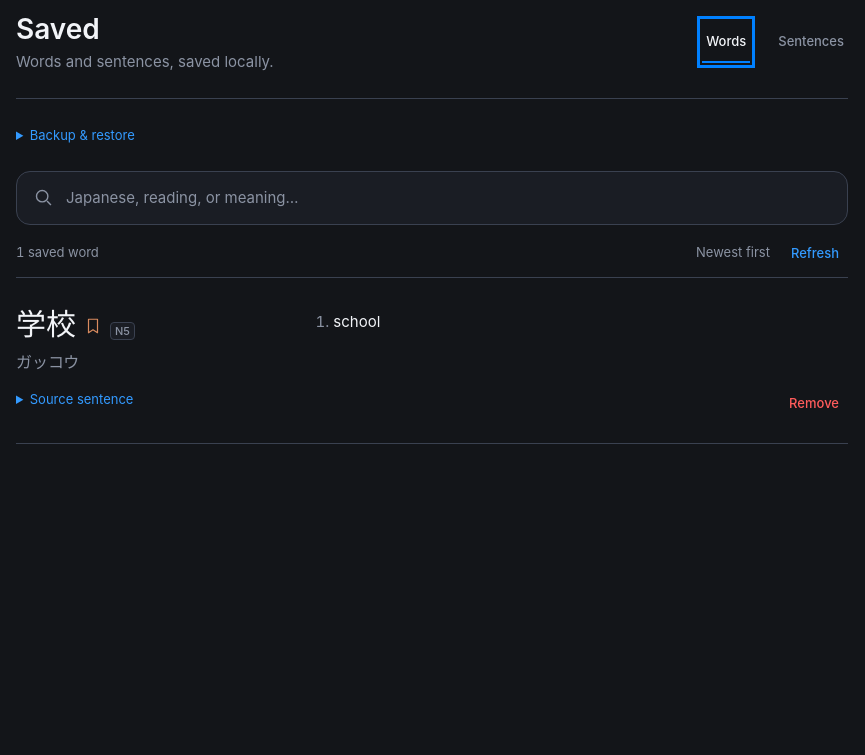
Test: refreshes restored entries after an already pending removal finishes
Click the heading "Backup & restore": (82, 135) [30, 127, 135, 143]
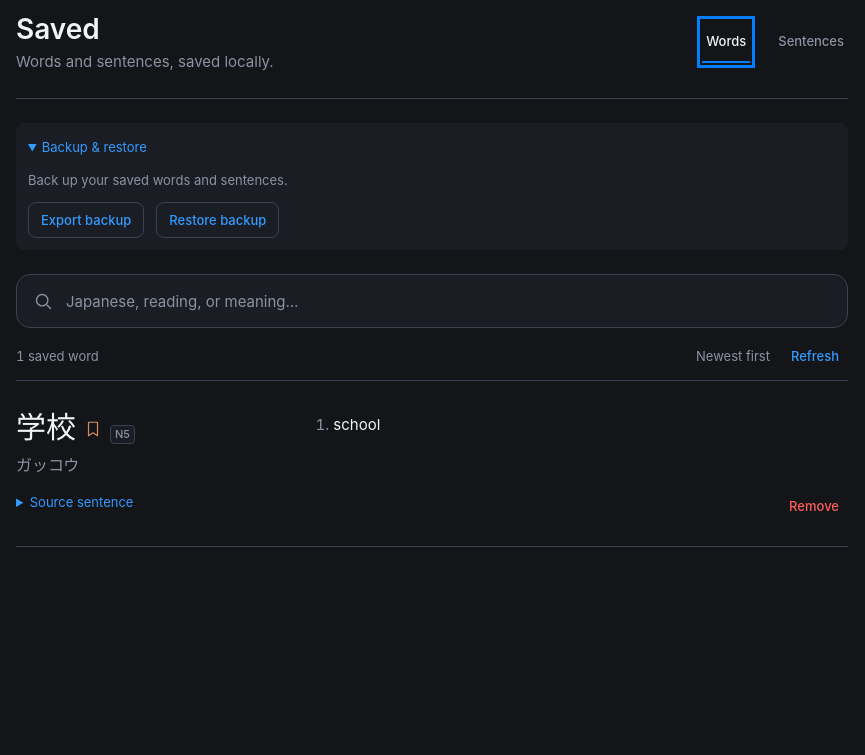
Click the button "Remove": (814, 506) [780, 490, 848, 522]
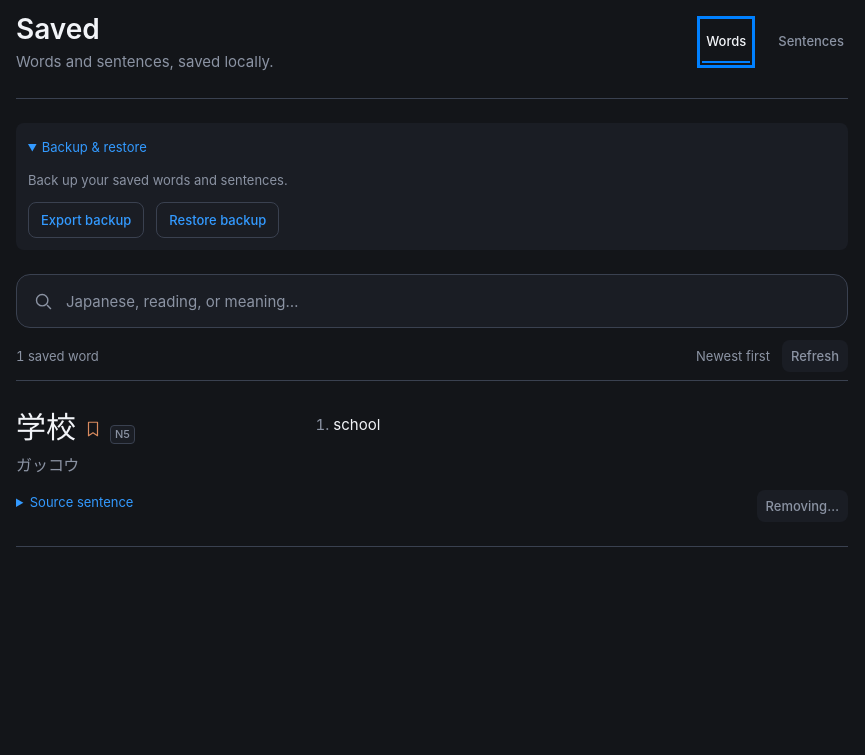
Click the button "Restore backup": (218, 220) [156, 202, 279, 238]
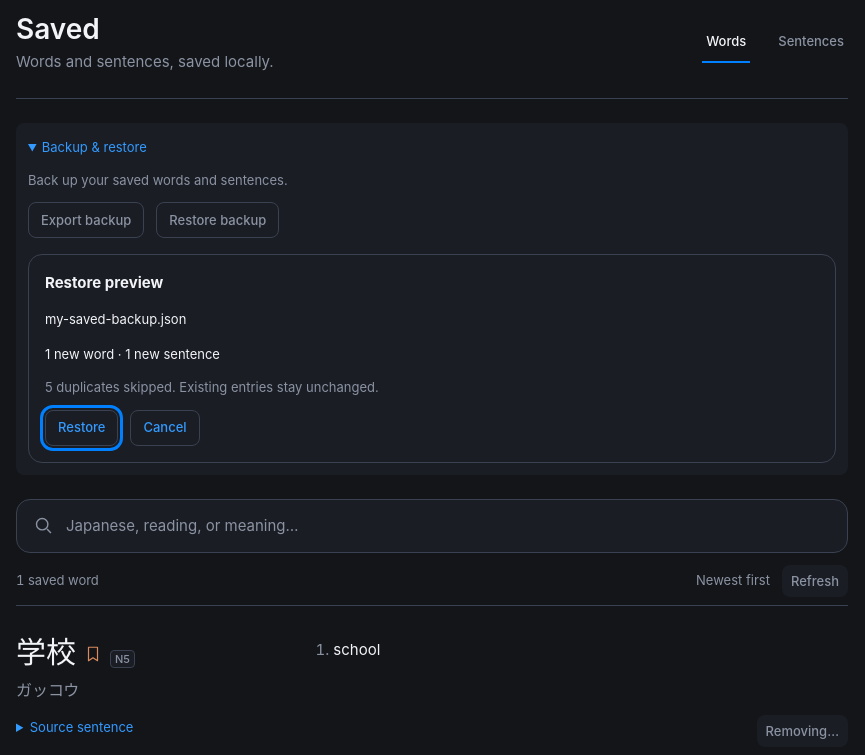
Click the button "Restore": (82, 428) [45, 410, 118, 446]
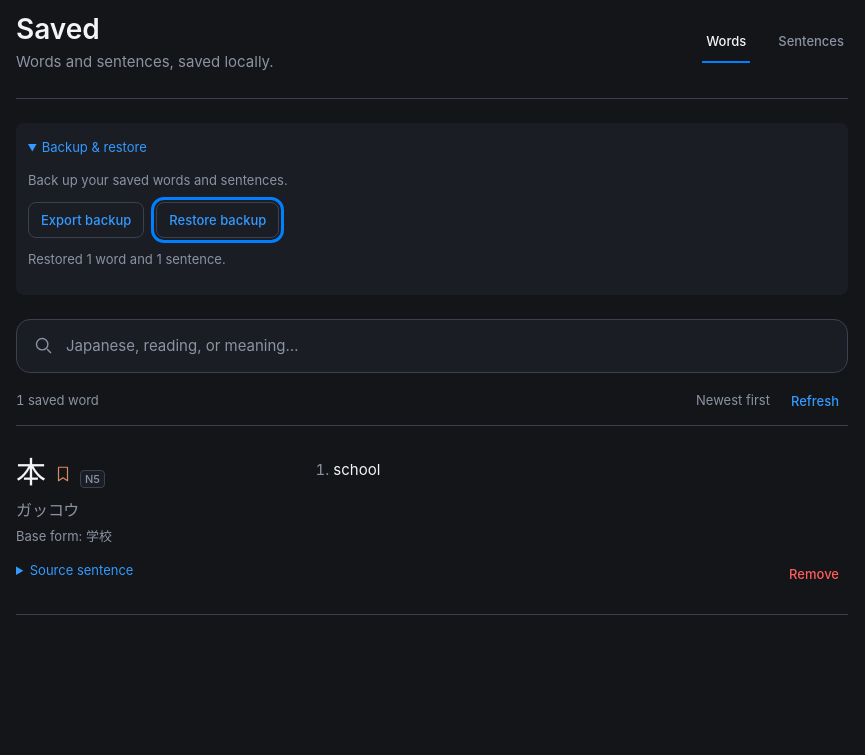
Now the text "本" is shown, box [16, 450, 46, 495]
